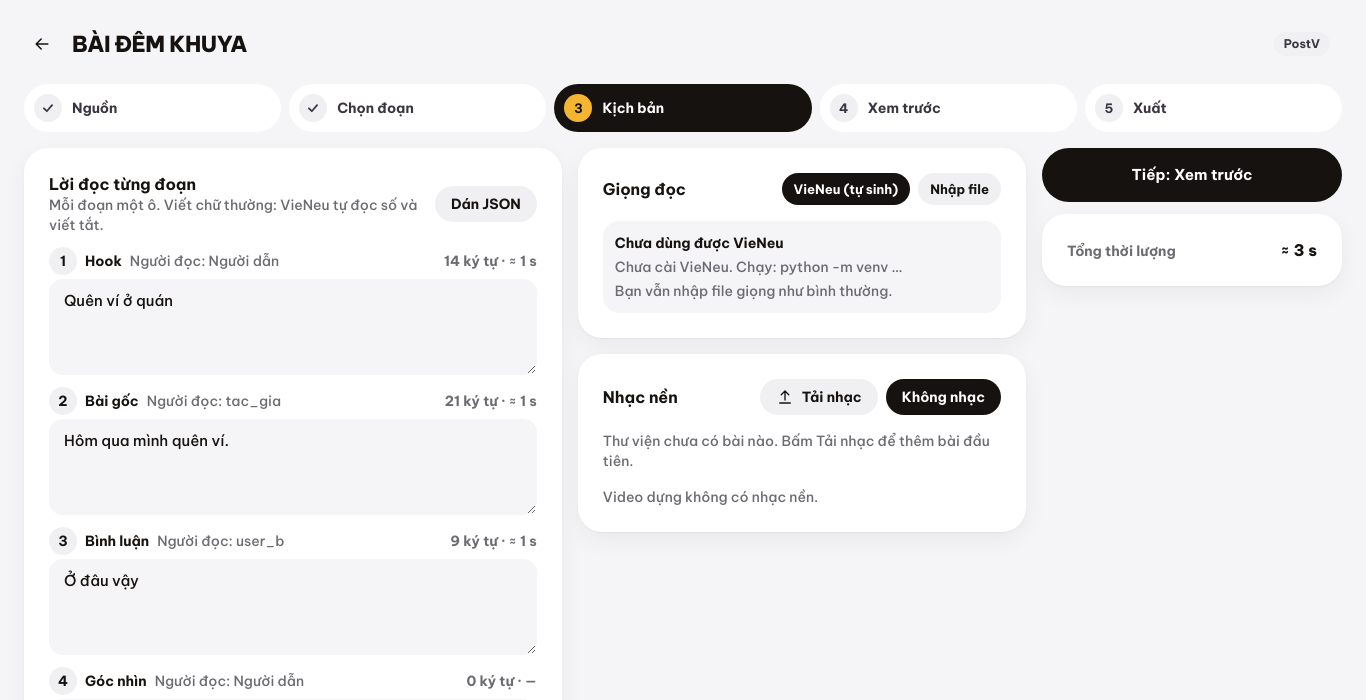
Test case: Thẻ Giọng › explains how to install VieNeu and still lets the user import a file
Expected: the text "Chưa dùng được VieNeu" is shown, [615,234,784,252]
Expected: the text "Chưa cài VieNeu. Chạy: python -m venv …" is shown, [615,258,902,276]
Click the button "Nhập file". click: click(960, 189)
box: [918,173,1001,205]
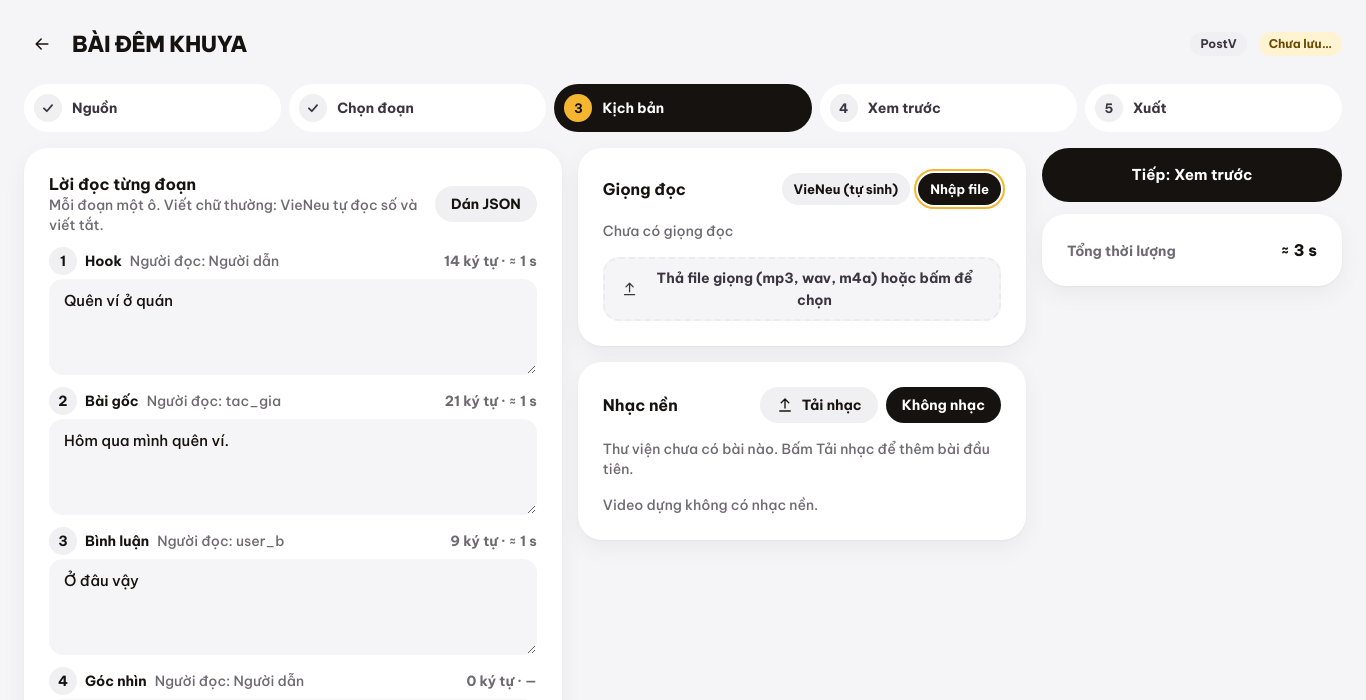
Now the element labelled "Thả file giọng (mp3, wav, m4a) hoặc bấm để chọn" is shown, box [603,257,1001,321]
